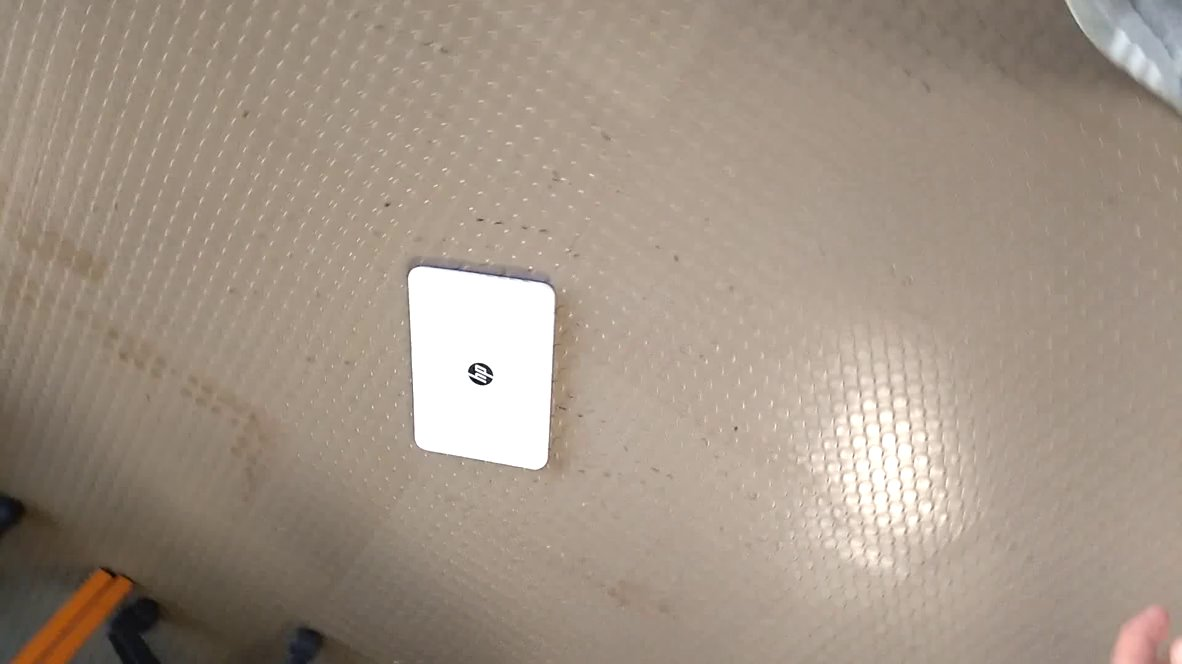laptop: (401, 242, 567, 486)
